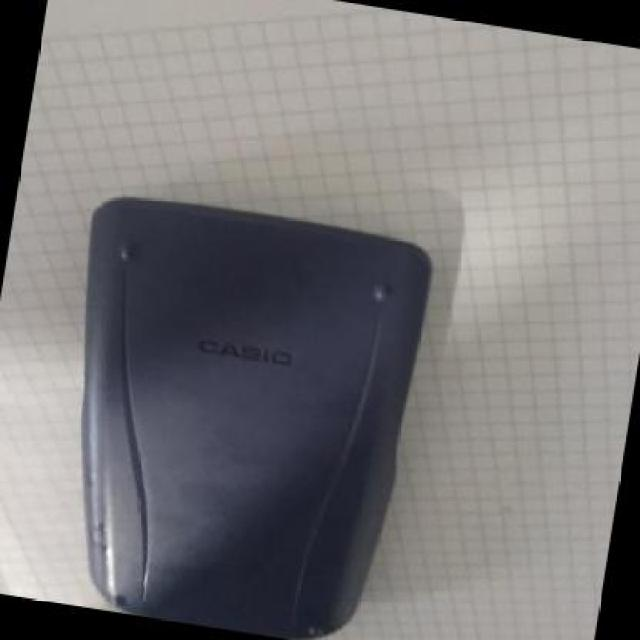Calculator: (23, 177, 432, 638)
